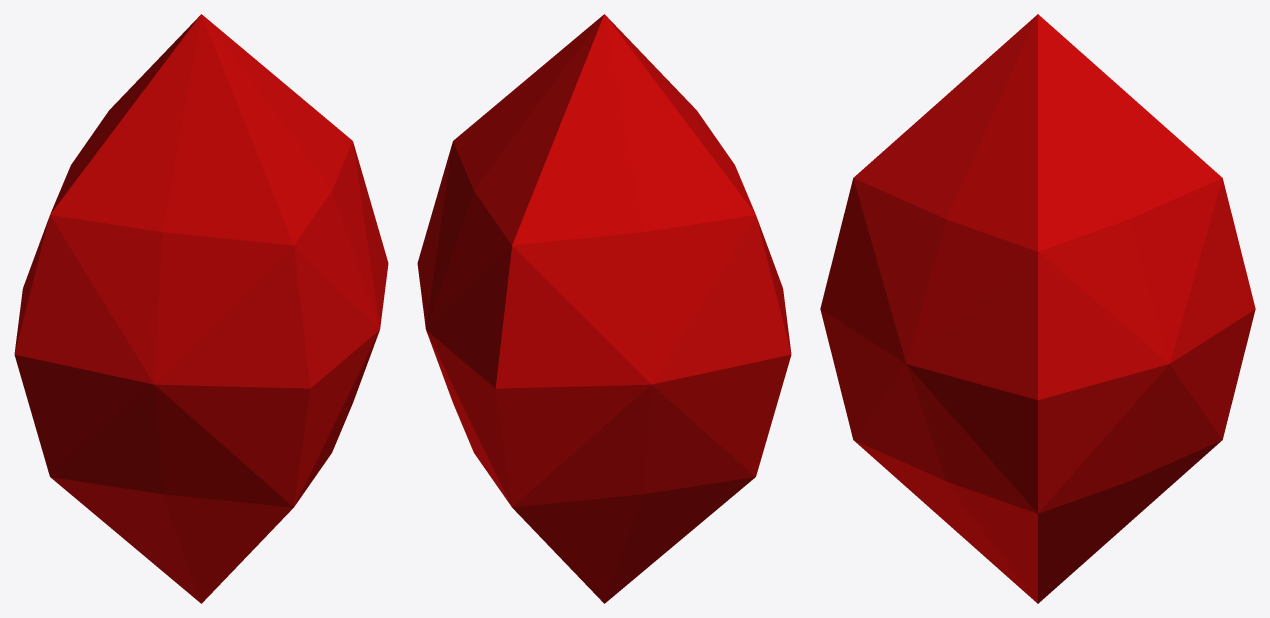
The model's file is Crystal.obj.
3 views of the same model, side by side, from view 1: azimuth 30°, elevation 25°; view 2: azimuth 150°, elevation 25°; view 3: azimuth 270°, elevation 25° (orthographic).
Visible parts, largest first — view 1: Crystal; view 2: Crystal; view 3: Crystal.
Part boxes in pixels (x1=…): Crystal: x1=14, y1=14, x2=388, y2=603; Crystal: x1=417, y1=14, x2=791, y2=603; Crystal: x1=820, y1=14, x2=1255, y2=603.
Bounding box in the file's own units: 2.99 × 4.5 × 3.01.
